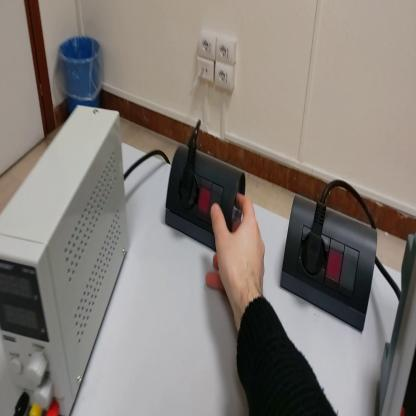hand: (209, 190, 267, 307)
oscilloscope: (378, 232, 416, 416)
power supply: (2, 96, 128, 416)
socket: (284, 194, 381, 340), (167, 149, 248, 253)
